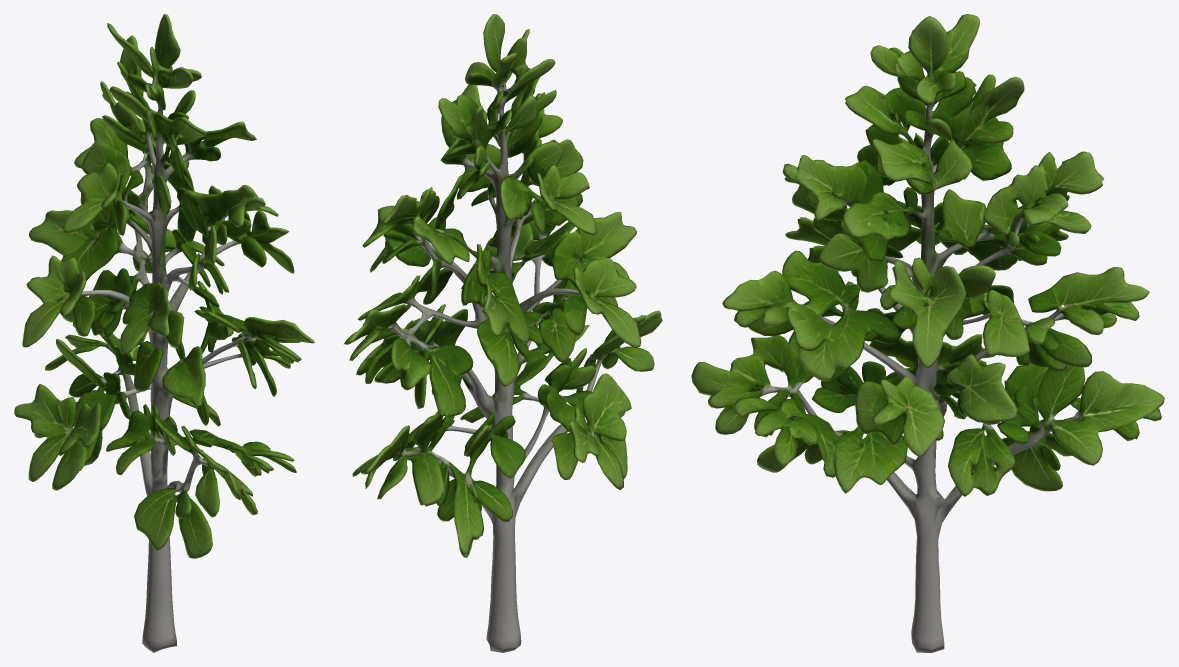
The model's file is plains_tree_04.glb.
3 renders of one model, left to right at view 1: azimuth 30°, elevation 25°; view 2: azimuth 150°, elevation 25°; view 3: azimuth 270°, elevation 25°, orthographic.
Parts seen in each view (by area): view 1: tripo_node_49ea53d3-1940-4ede-8f97-df51b21db161; view 2: tripo_node_49ea53d3-1940-4ede-8f97-df51b21db161; view 3: tripo_node_49ea53d3-1940-4ede-8f97-df51b21db161.
Part boxes in pixels (x1,y1,x2,y2): tripo_node_49ea53d3-1940-4ede-8f97-df51b21db161: (14, 14, 314, 652); tripo_node_49ea53d3-1940-4ede-8f97-df51b21db161: (343, 14, 662, 652); tripo_node_49ea53d3-1940-4ede-8f97-df51b21db161: (691, 14, 1164, 652).
Bounding box in the file's own units: 0.4338 × 0.9692 × 0.6551.
Materials: 1 (1 with a texture image).
